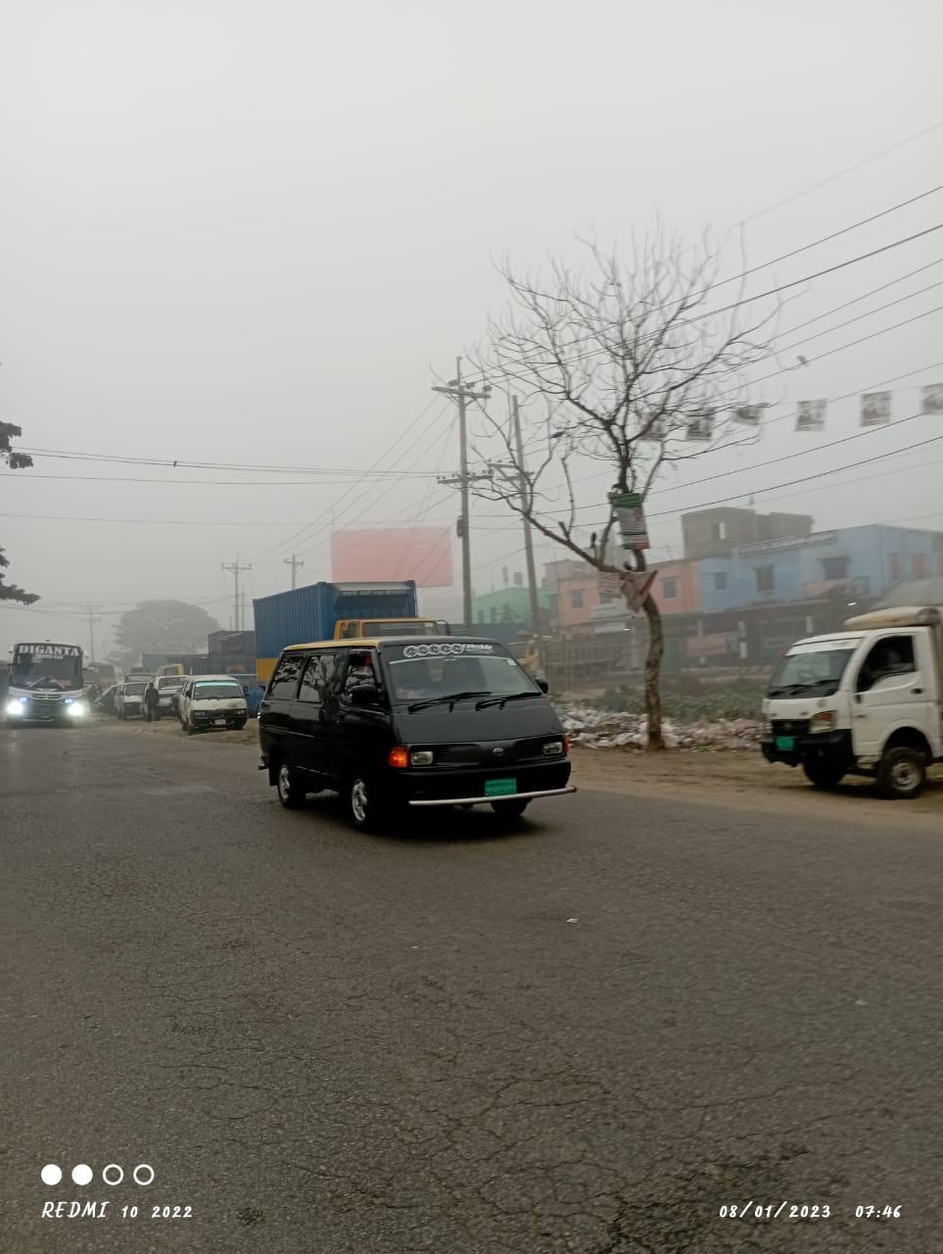Bus: (2, 630, 98, 740)
Car: (253, 632, 593, 831), (176, 667, 253, 736)
Truck: (746, 585, 942, 814), (239, 573, 448, 677)
